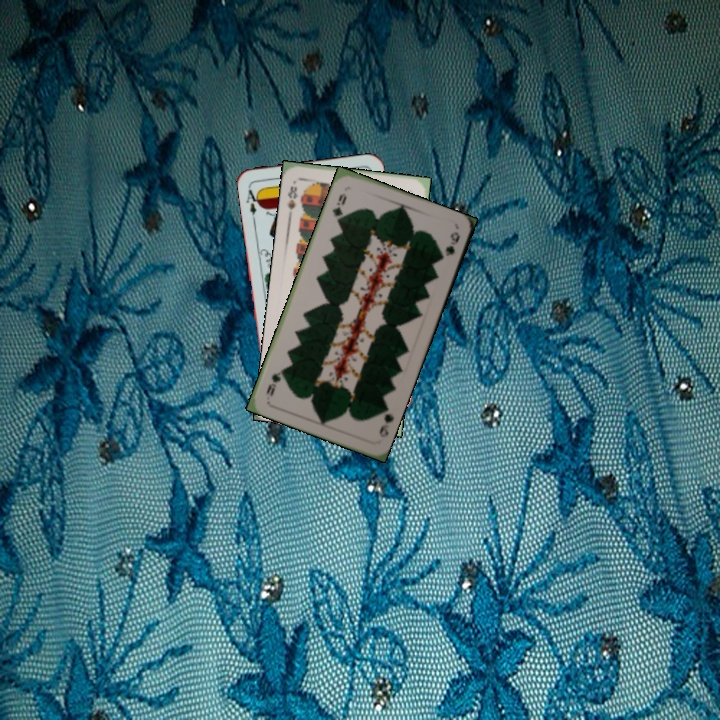EA: (242, 183, 263, 223)
G9: (375, 402, 397, 440), (328, 189, 349, 225)
S8: (283, 182, 300, 218)
